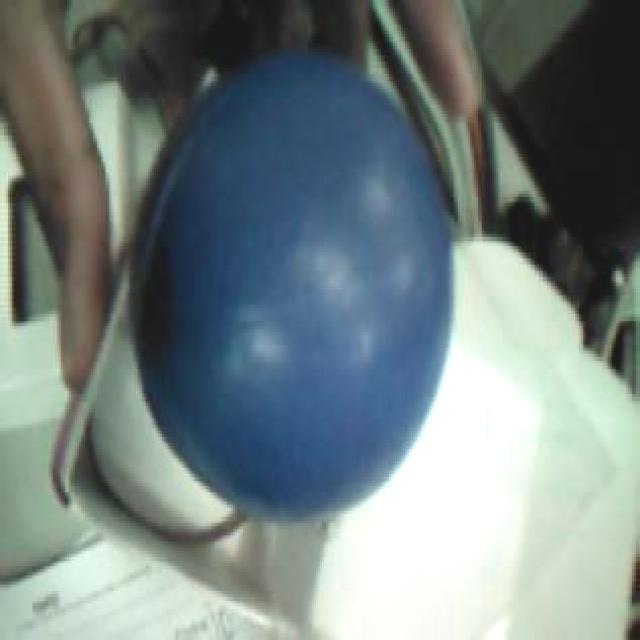BallPurple: (132, 47, 454, 520)
